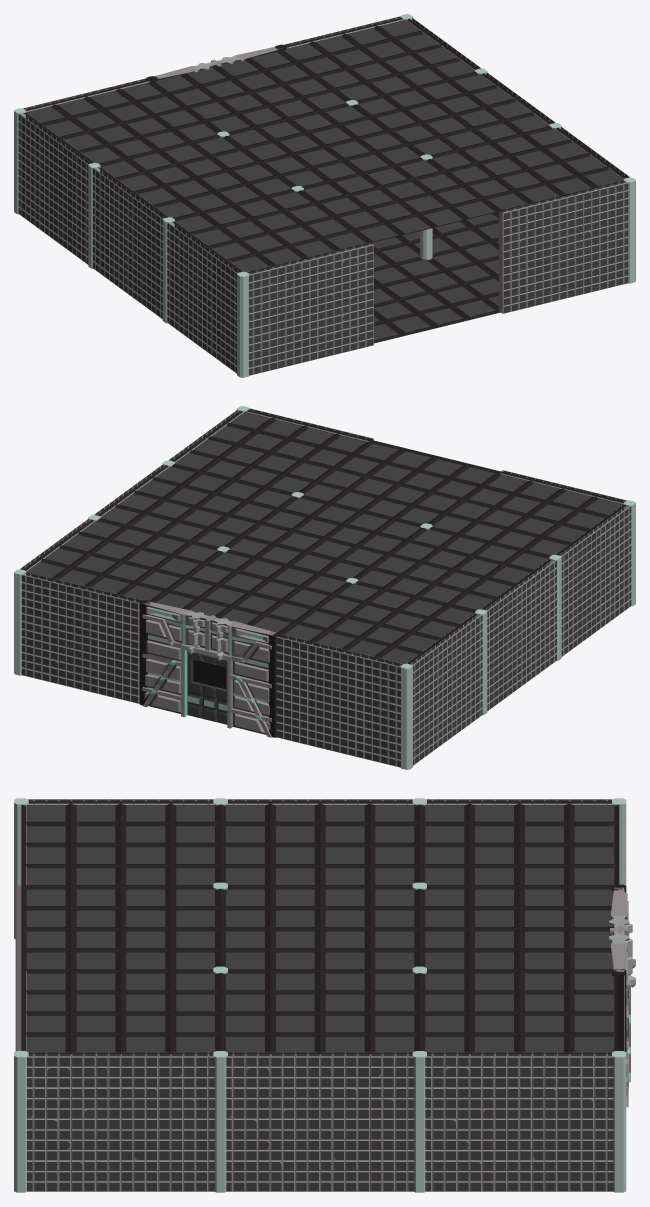
The model's file is room2.fbx.
3 views of the same model, one above another, from view 1: azimuth 30°, elevation 25°; view 2: azimuth 150°, elevation 25°; view 3: azimuth 270°, elevation 25° (orthographic). The views are drawn at different scales.
Parts seen in each view (by area): view 1: Plane.008, door; view 2: Plane.008, door; view 3: Plane.008, door.
Part boxes in pixels (box(x1,y1,x2,y2)): Plane.008: box(14, 14, 635, 377); door: box(146, 44, 287, 81); Plane.008: box(14, 406, 635, 769); door: box(139, 600, 280, 737); Plane.008: box(14, 798, 626, 1192); door: box(609, 884, 635, 1107).
Bounding box in the file's own units: 1229 × 301 × 1248.
